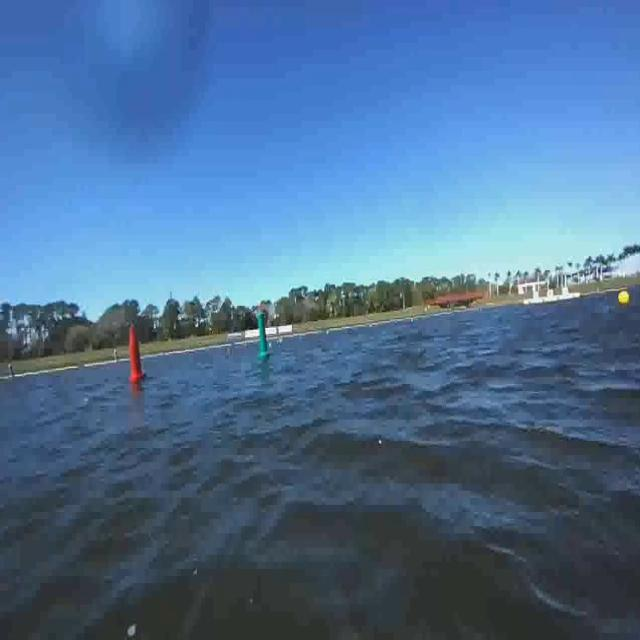green-column-buoy: (256, 311, 271, 360)
red-column-buoy: (128, 326, 146, 382)
yellow-buoy: (619, 288, 632, 306)
